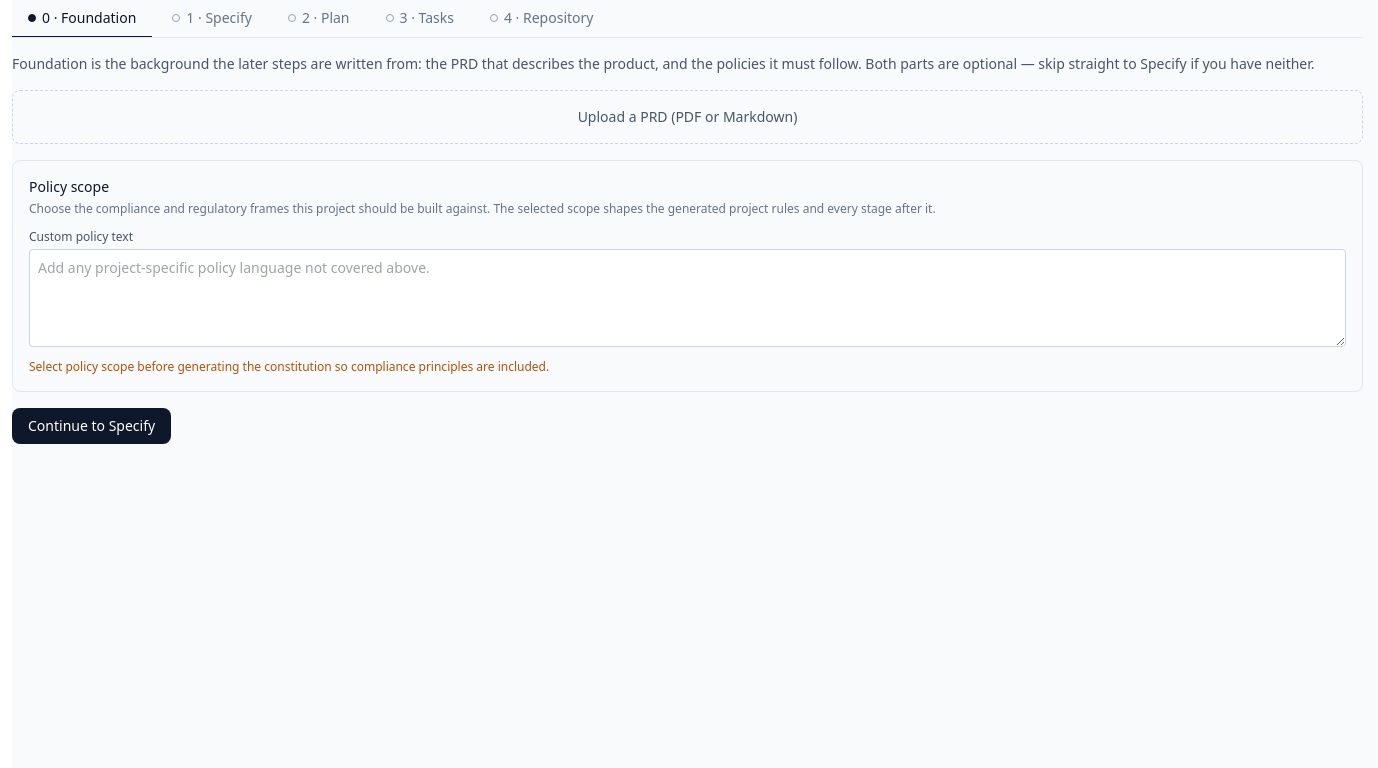
Planner › renders the document upload and stage stepper for a planning-stage project
Check: the file field "Upload a PRD (PDF or Markdown)" is shown, box x1=578 y1=107 x2=797 y2=126
Click the tab "1 · Specify" at [212, 19], box x1=156 y1=0 x2=268 y2=38
(page scrolled)
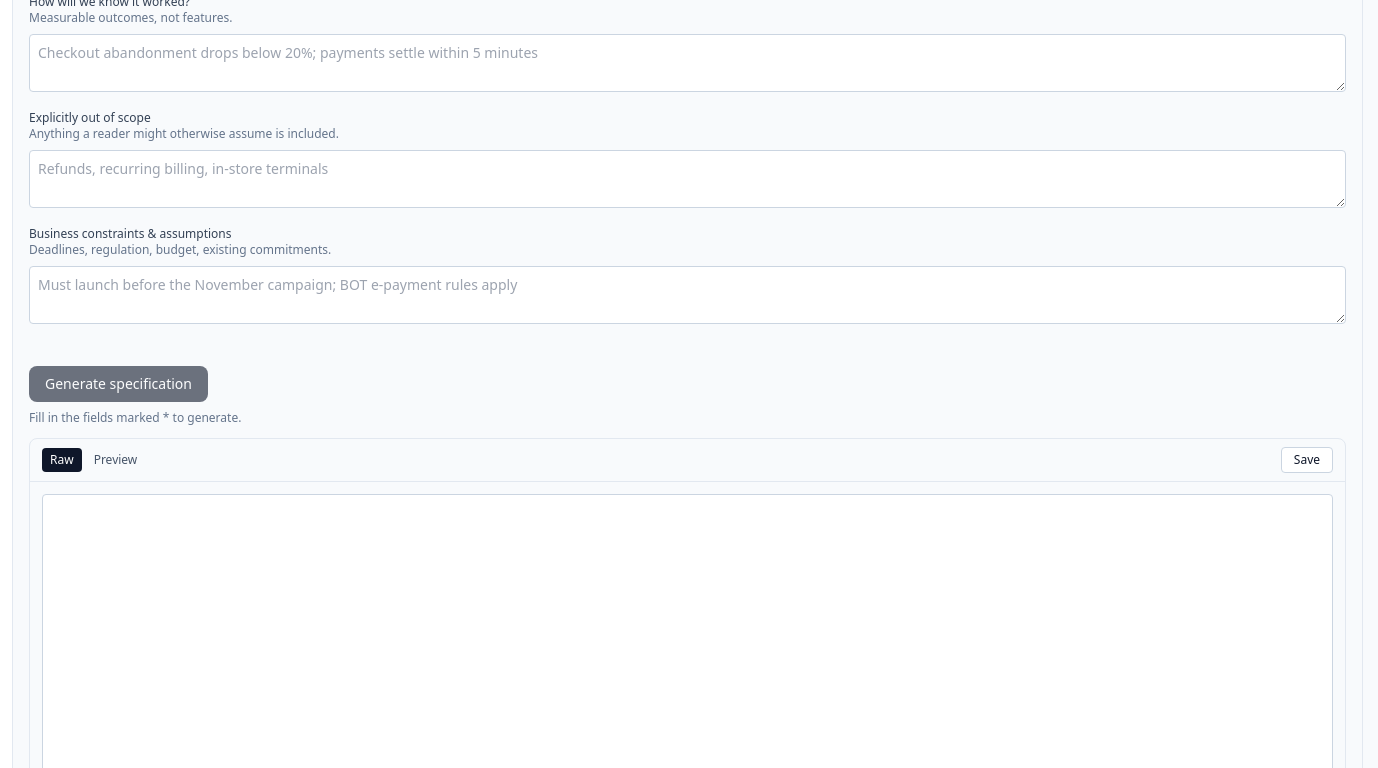
Check: the button "Generate specification" is shown, box x1=29 y1=366 x2=208 y2=402
